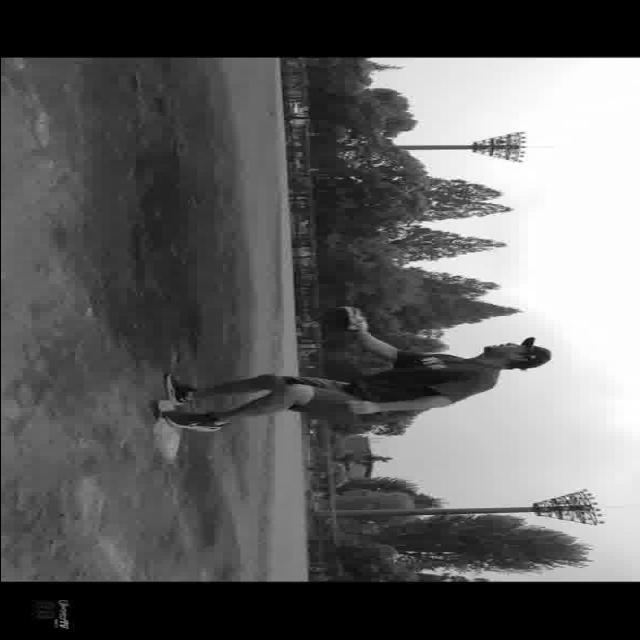base: (152, 399, 184, 455)
baseball_glove: (318, 306, 370, 333)
shoe: (160, 413, 226, 433), (162, 374, 192, 408)
